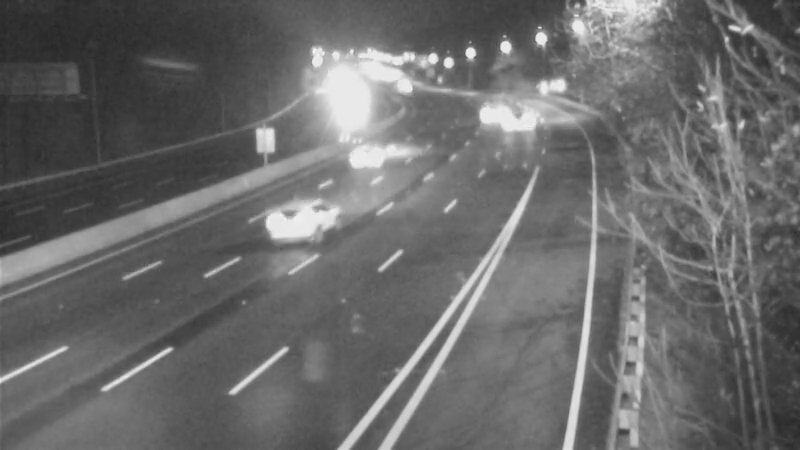vehicle: (322, 119, 402, 199), (249, 185, 329, 265), (461, 88, 511, 138), (502, 88, 552, 138)
